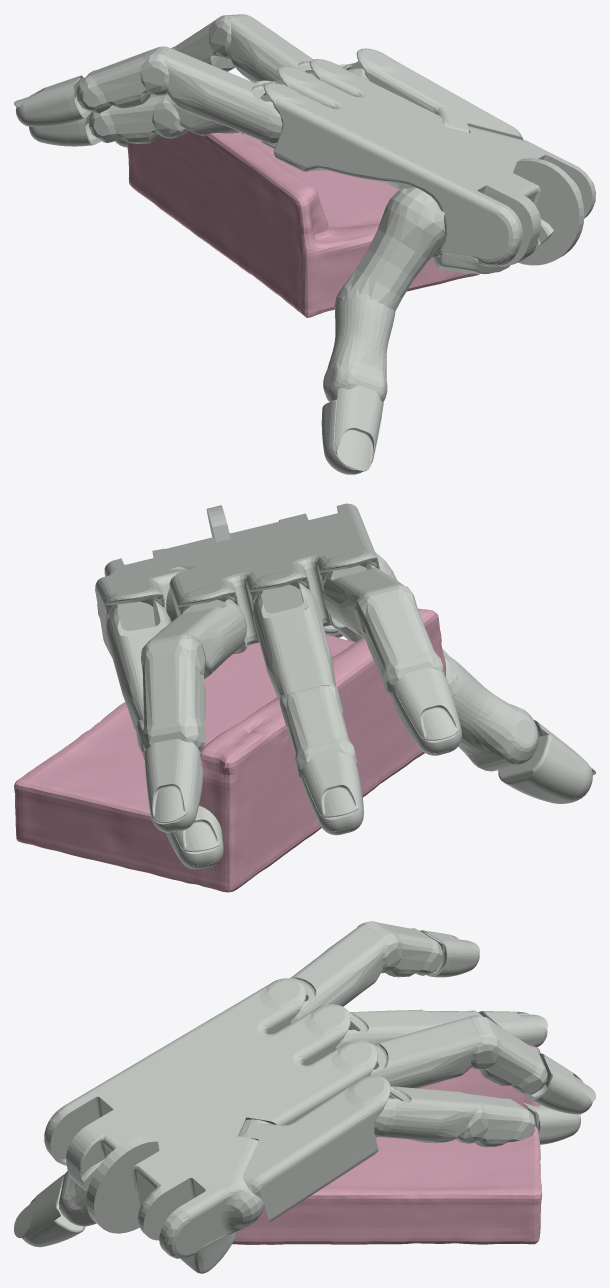
3 views of the same model, one above another, from view 1: azimuth 30°, elevation 25°; view 2: azimuth 150°, elevation 25°; view 3: azimuth 270°, elevation 25° (orthographic). The views are drawn at different scales.
Parts seen in each view (by area): view 1: hand_isaac_q, world; view 2: hand_isaac_q, world; view 3: hand_isaac_q, world.
Part boxes in pixels (x1,y1,x2,y2): hand_isaac_q: (14,14,595,474); world: (127,131,479,317); hand_isaac_q: (95,503,595,869); world: (14,608,445,892); hand_isaac_q: (14,921,595,1273); world: (232,1045,542,1244).
Bounding box in the file's own units: 0.1827 × 0.1231 × 0.2113.
